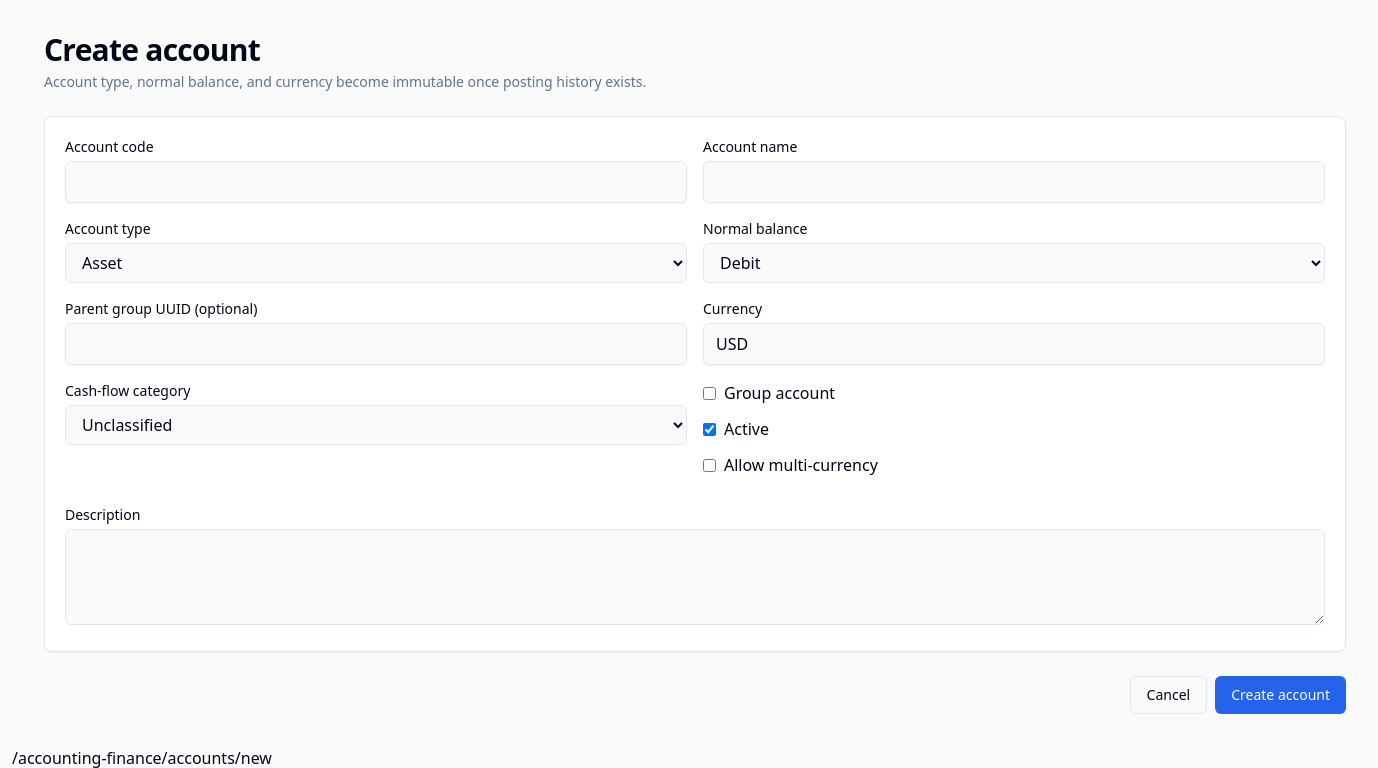
Test: accounting resource form pages › maps server field errors on account creation without rendering a generic failure
Type "1000" into the field labelled "Account code". click: point(376, 182)
box: [65,161,687,203]
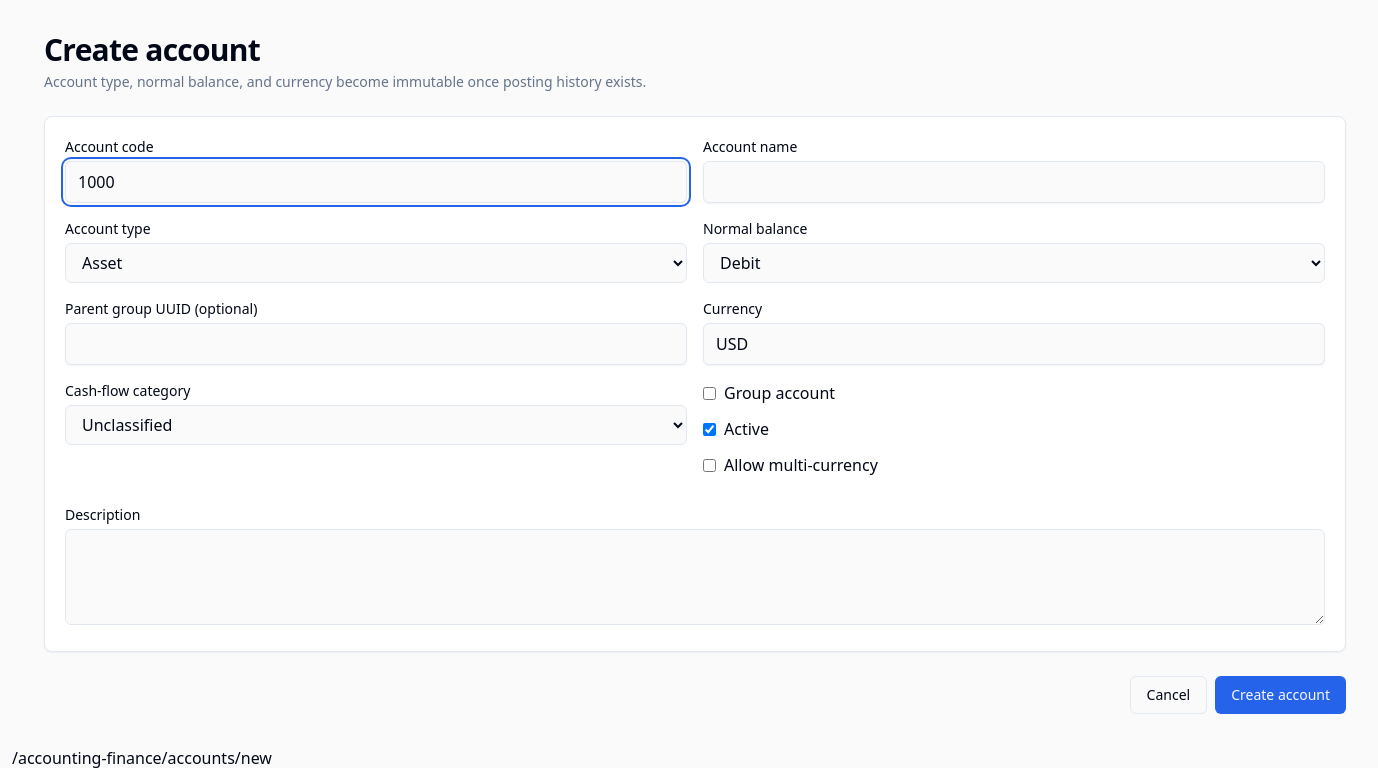
Type "Duplicate Cash" into the field labelled "Account name". click: point(1014, 182)
box: [703,161,1325,203]
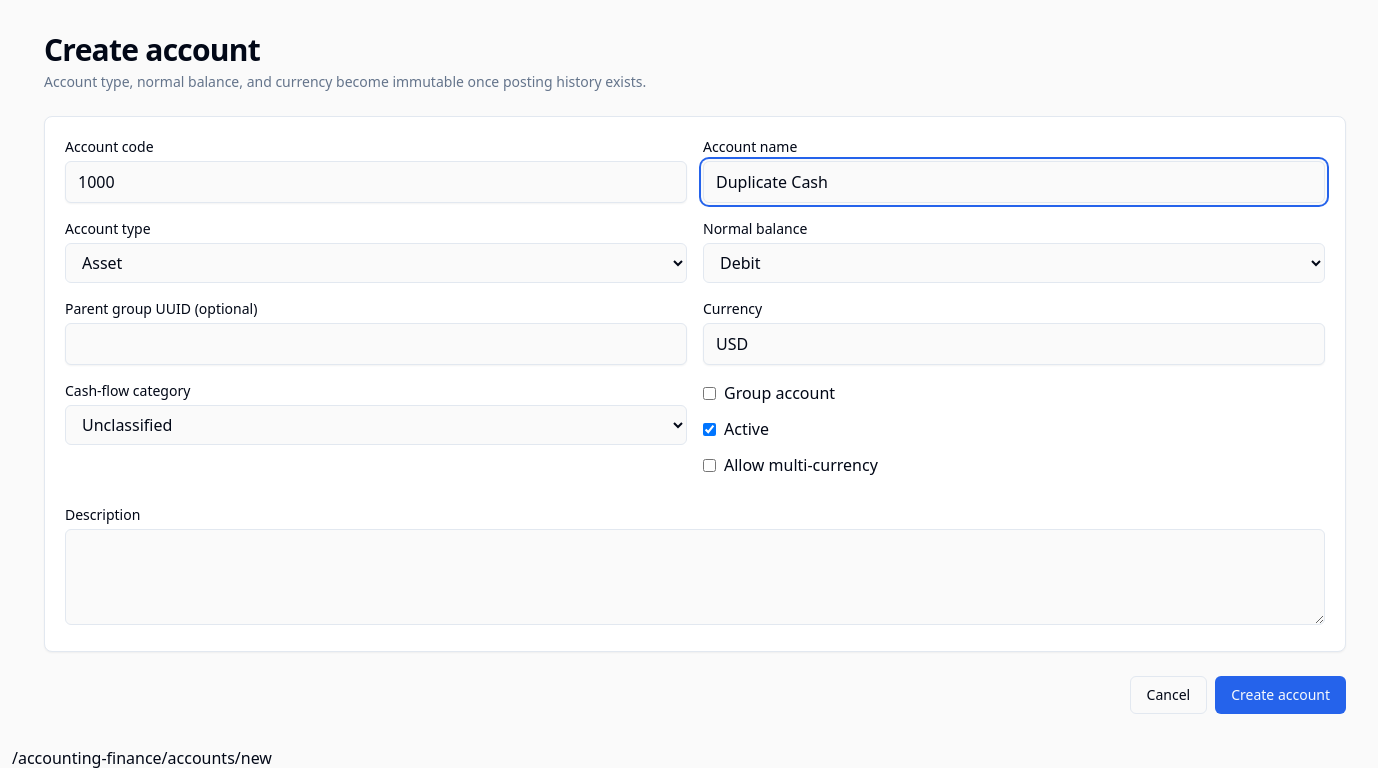
Click the button "Create account". click: point(1281, 695)
box: [1215,676,1346,714]
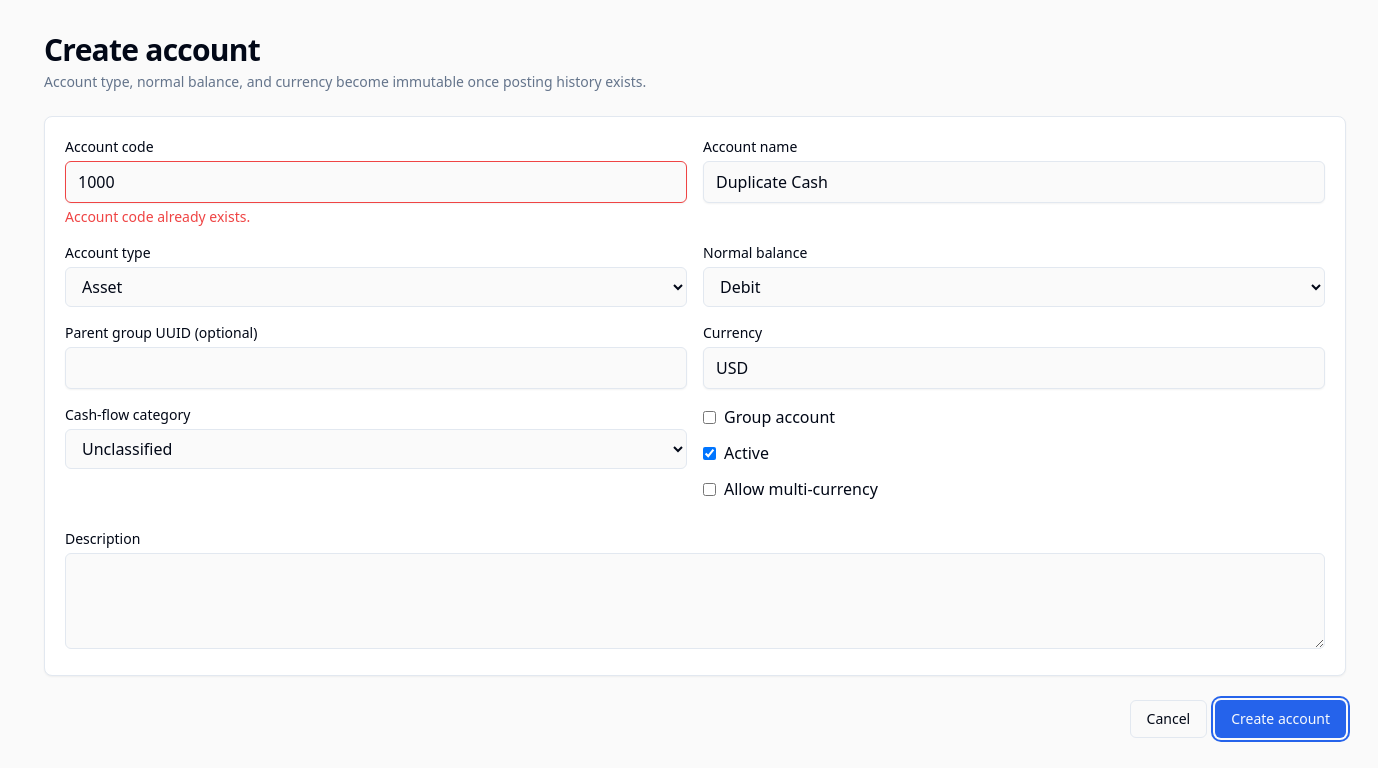
Now the text "Account code already exists." is shown, box [65,207,250,226]
